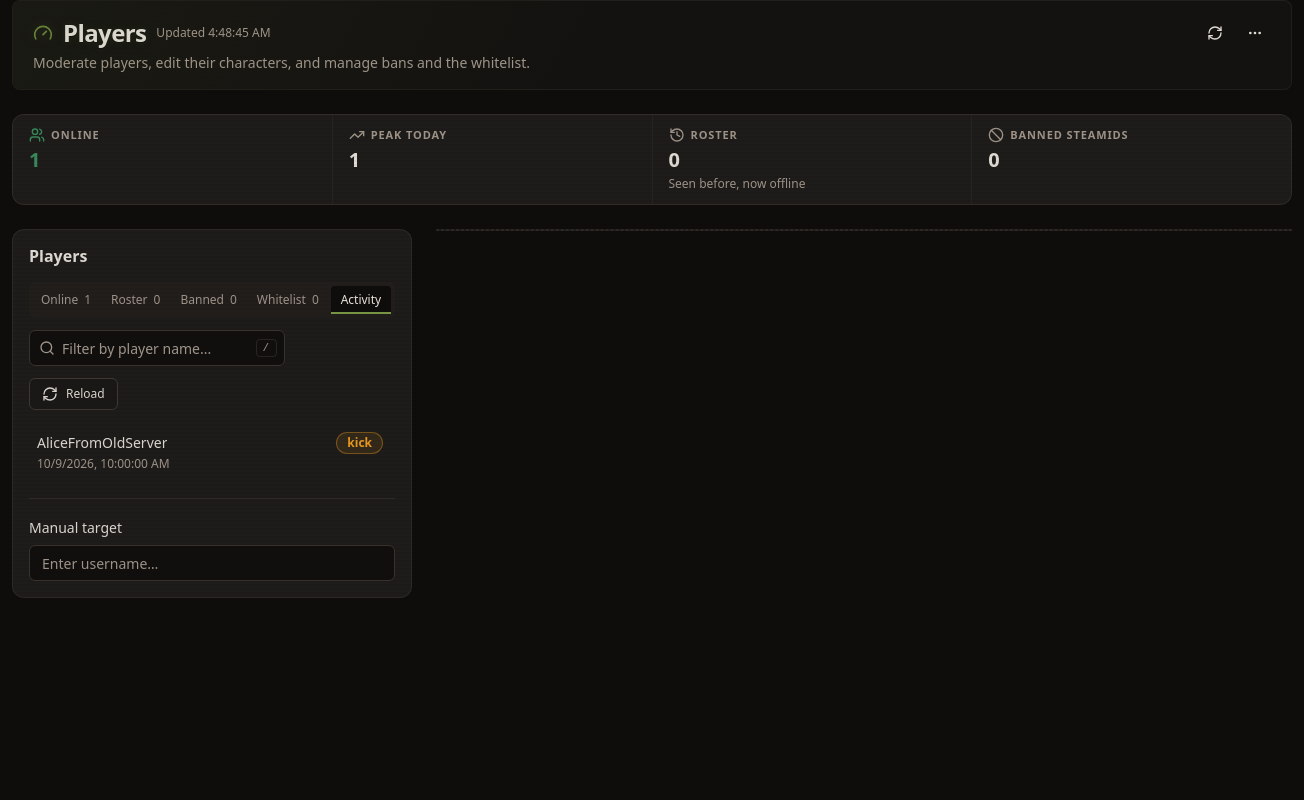
Test: Players.tsx: the activity log is per server › empties the old server's log at once, and loads the new one when the tab is opened
Check: the text "AliceFromOldServer" is shown, box [37,433,167,453]
Press the mouse on the tab "Online 1" at (66, 300), box [33,286,99,314]
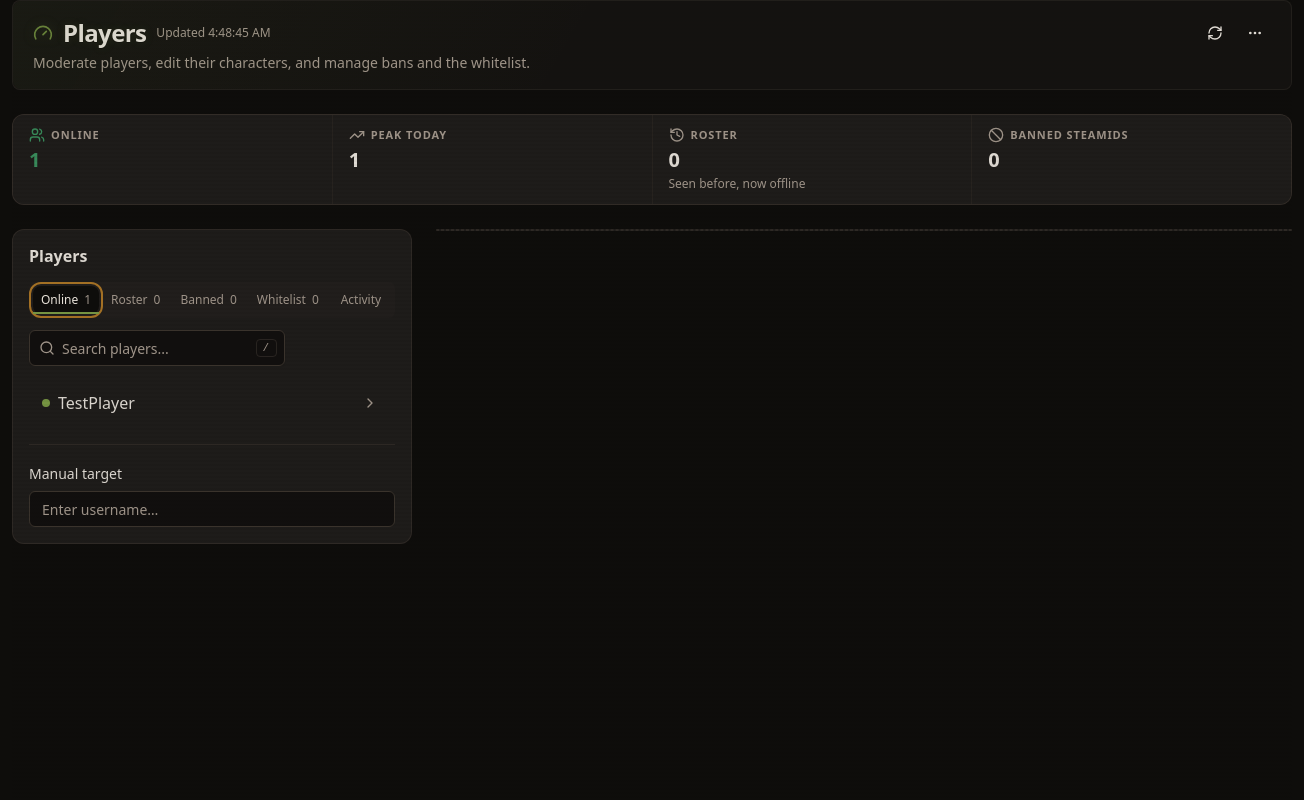
Press the mouse on the tab "Activity" at (361, 300), box [331,286,391,314]
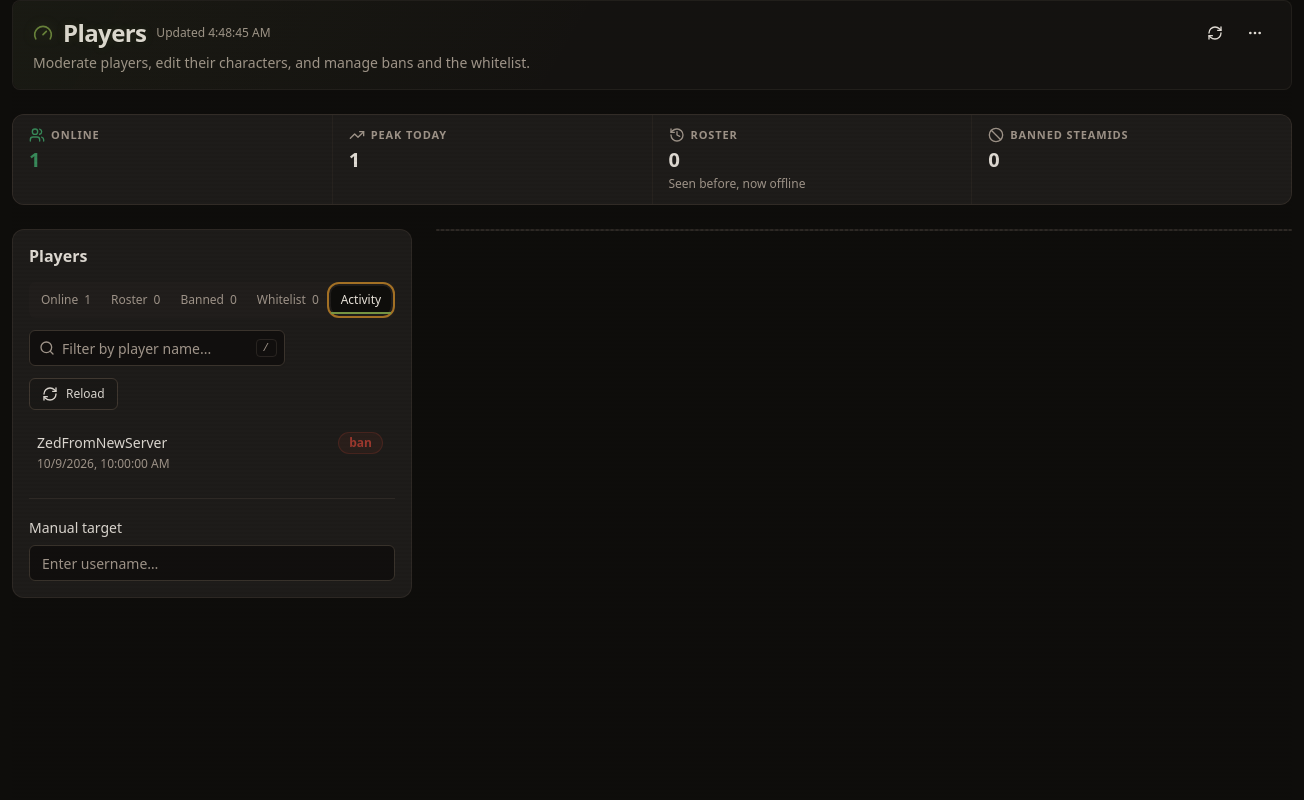
Check: the button "AliceFromOldServer" is not shown
Check: the text "ZedFromNewServer" is shown, box [37,433,167,453]
